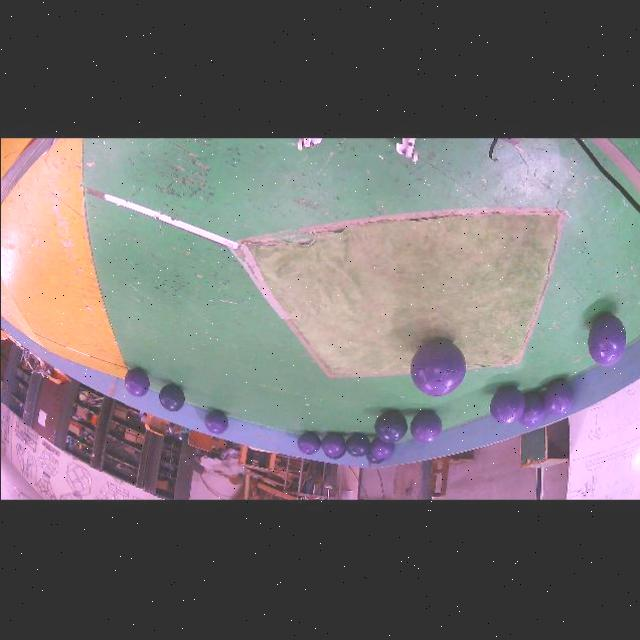B: (374, 409, 406, 441), (158, 383, 184, 411), (345, 432, 370, 456), (365, 448, 384, 463), (326, 447, 345, 458)
P: (410, 339, 465, 395), (587, 312, 625, 365), (489, 385, 525, 423), (542, 378, 574, 414), (409, 409, 442, 442), (518, 390, 546, 426), (123, 367, 148, 395), (204, 409, 228, 433), (321, 432, 345, 456), (369, 436, 394, 457), (296, 431, 319, 453)
